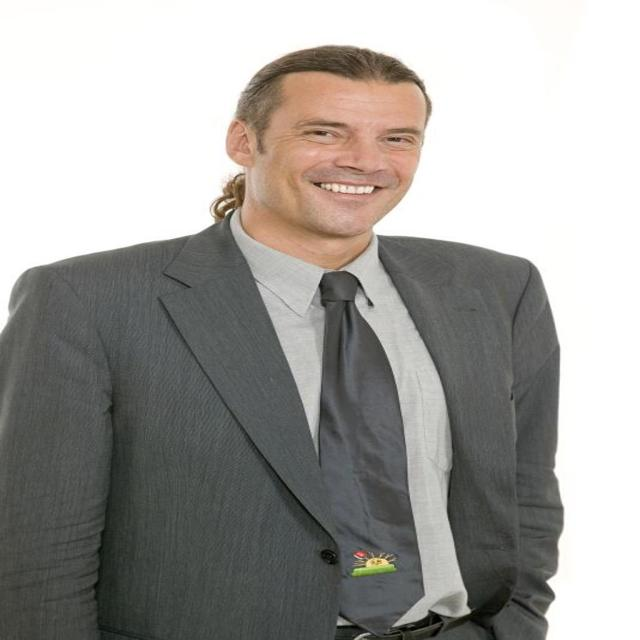Face: (266, 62, 444, 256)
